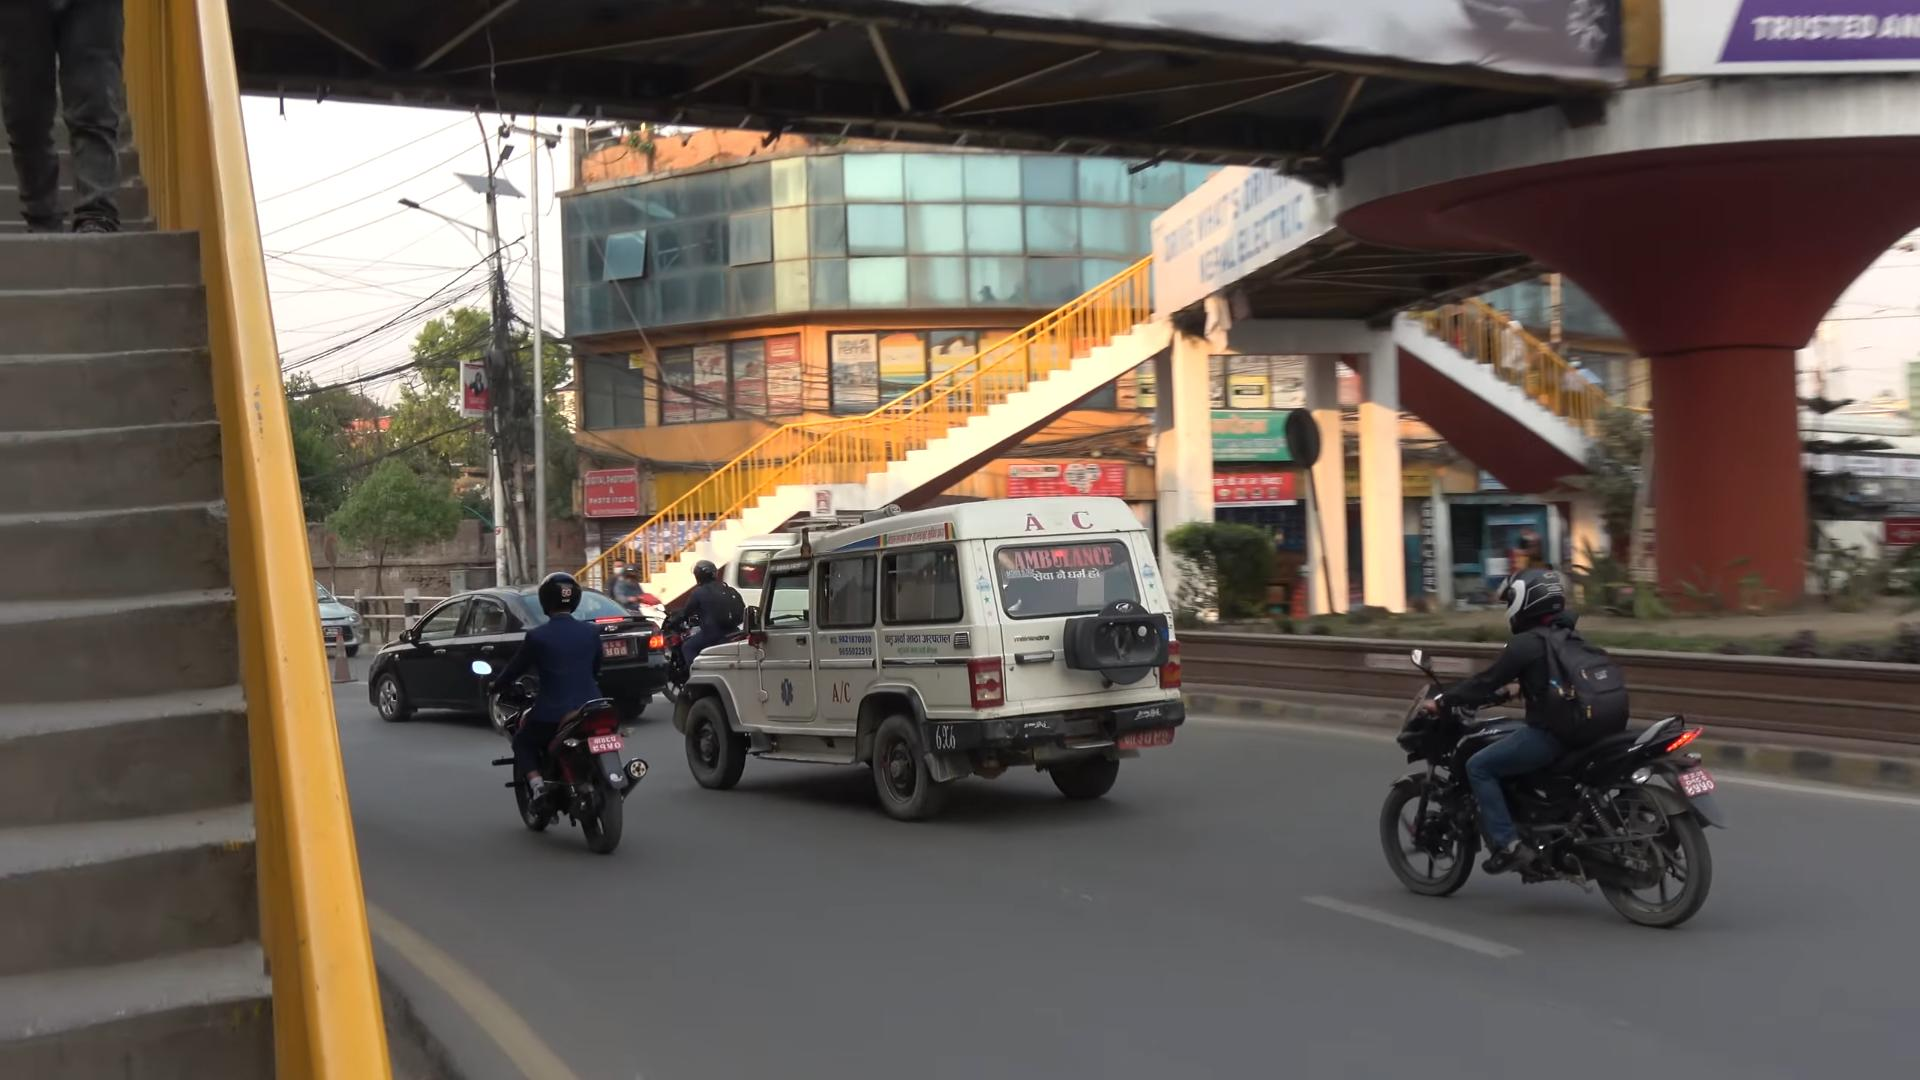ambulance: (667, 493, 1204, 841)
bike: (1371, 642, 1730, 940), (468, 650, 646, 857)
car: (364, 582, 674, 738)
